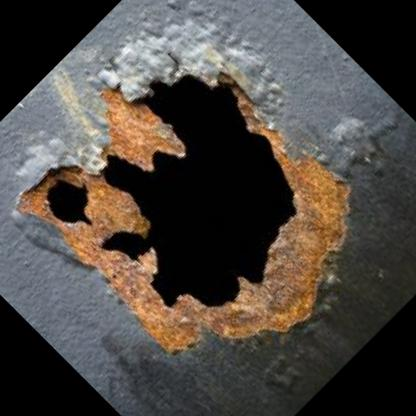burst: (43, 65, 361, 351)
